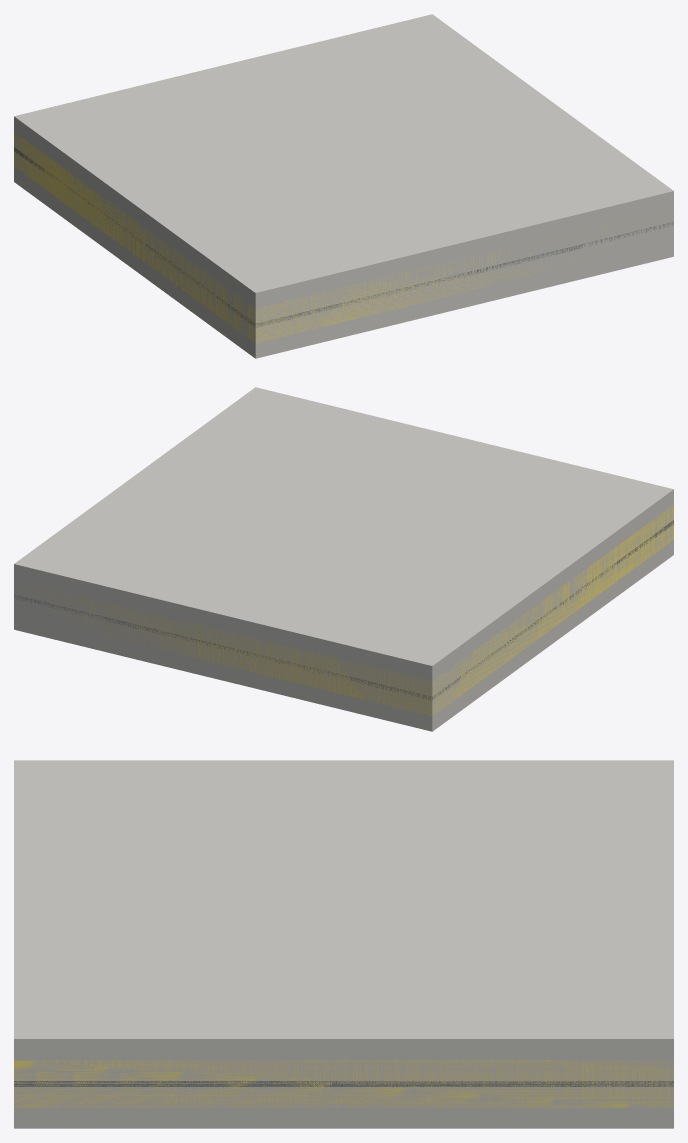
The model's file is roof-basic-flat.glb.
3 views of the same model, one above another, from view 1: azimuth 30°, elevation 25°; view 2: azimuth 150°, elevation 25°; view 3: azimuth 270°, elevation 25° (orthographic). The views are drawn at different scales.
Parts seen in each view (by area): view 1: Structure.004, Thermal, Membrane.001; view 2: Structure.004, Thermal, Membrane.001; view 3: Structure.004, Thermal, Membrane.001.
Part boxes in pixels (bbox=[...]): Structure.004: bbox=[14, 14, 673, 358]; Thermal: bbox=[14, 132, 672, 343]; Membrane.001: bbox=[14, 147, 673, 327]; Structure.004: bbox=[14, 387, 673, 731]; Thermal: bbox=[15, 505, 673, 715]; Membrane.001: bbox=[14, 520, 673, 700]; Structure.004: bbox=[14, 760, 673, 1128]; Thermal: bbox=[14, 1060, 673, 1107]; Membrane.001: bbox=[14, 1081, 673, 1086].
Bounding box in the file's own units: 1 × 0.15 × 1.
